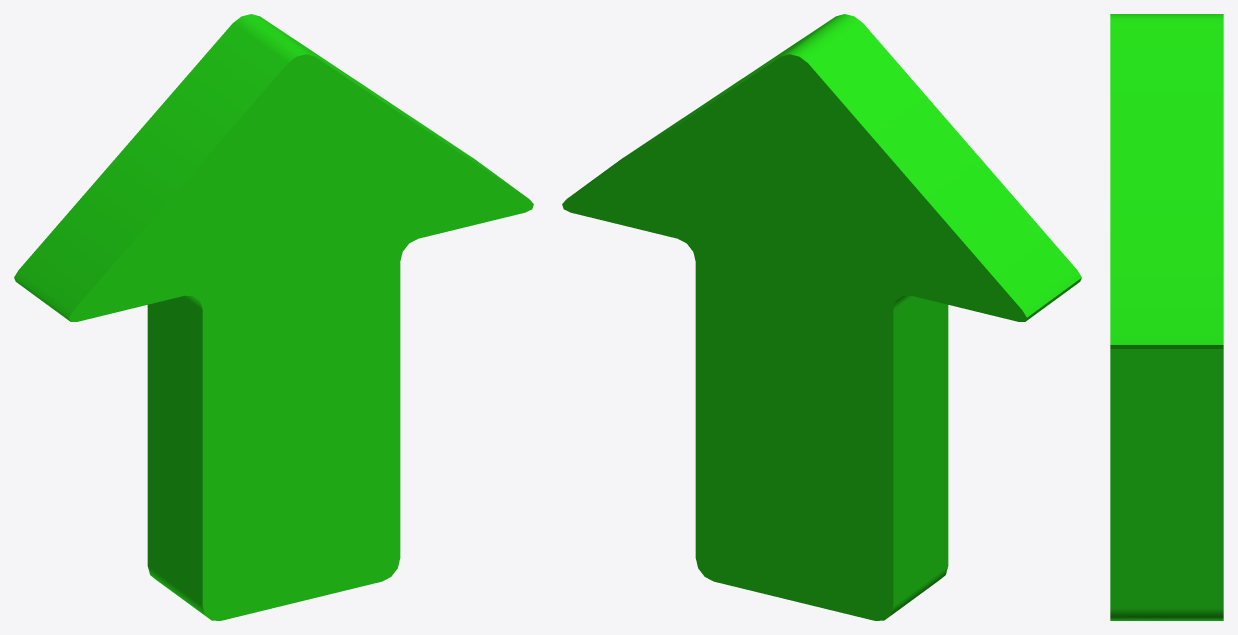
File: arrow.gltf
The picture shows the model from 3 angles, left to right: view 1: azimuth 30°, elevation 25°; view 2: azimuth 150°, elevation 25°; view 3: azimuth 270°, elevation 25°; orthographic projection. The views are drawn at different scales.
Parts seen in each view (by area): view 1: Cube; view 2: Cube; view 3: Cube.
Part boxes in pixels (box(x1,y1,x2,y2)): Cube: box(14, 14, 533, 620); Cube: box(562, 14, 1081, 620); Cube: box(1110, 14, 1223, 620).
Bounding box in the file's own units: 1.7 × 1.91 × 0.3487.
